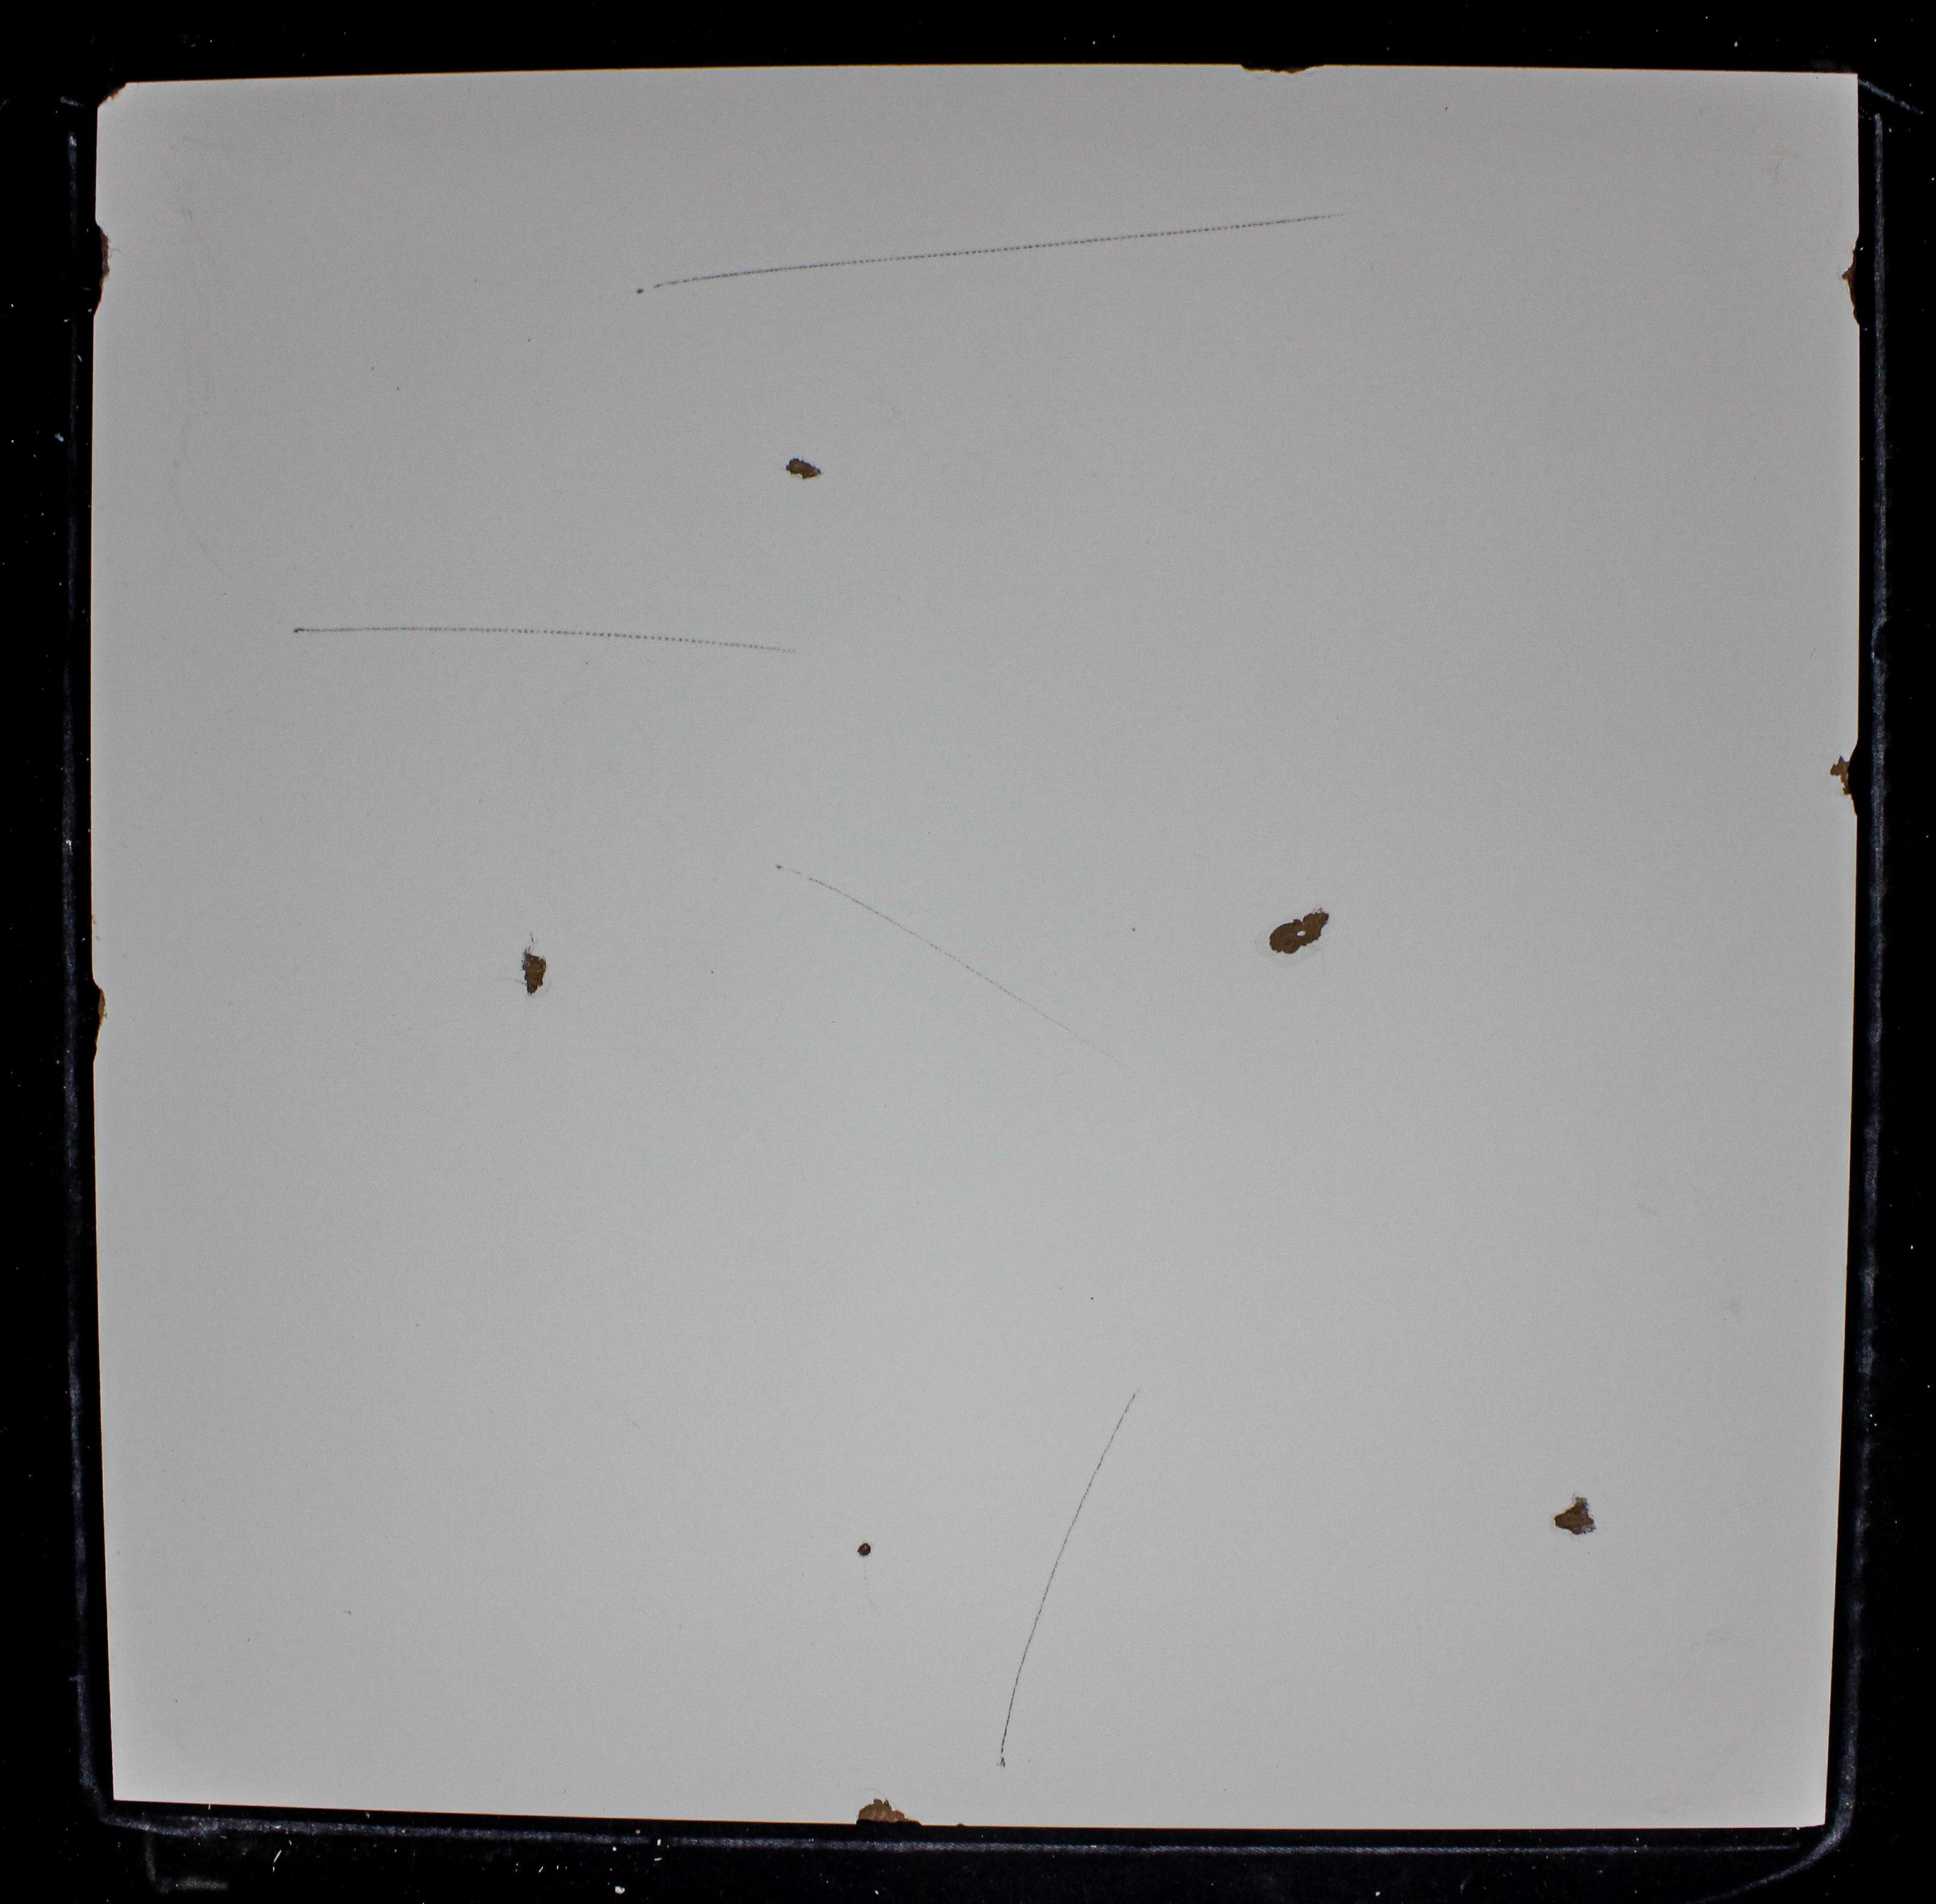edge-chipping: (1828, 741, 1861, 819), (1840, 234, 1864, 326), (855, 1796, 924, 1827), (91, 220, 112, 316), (87, 976, 110, 1060), (1238, 59, 1317, 73), (96, 80, 129, 110)
hole: (1265, 900, 1334, 955), (1552, 1494, 1598, 1538), (518, 947, 551, 999), (783, 453, 828, 483), (855, 1540, 874, 1559)
line: (630, 204, 1345, 298), (994, 1393, 1139, 1773), (291, 612, 799, 656), (951, 954, 1085, 1039), (808, 877, 940, 949)
